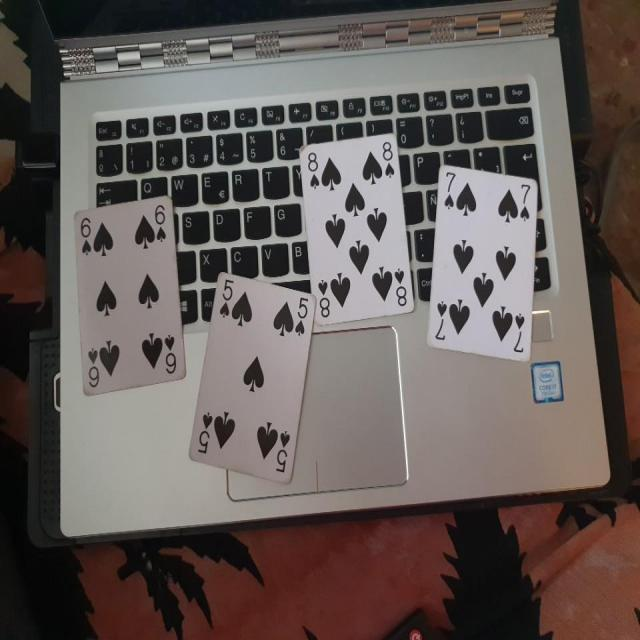5 Spades: (183, 272, 320, 491)
6 Spades: (71, 193, 194, 389)
7 Spades: (422, 163, 542, 366)
8 Spades: (296, 130, 414, 322)
